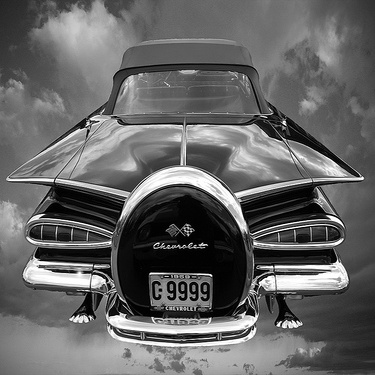car: (1, 32, 352, 350)
